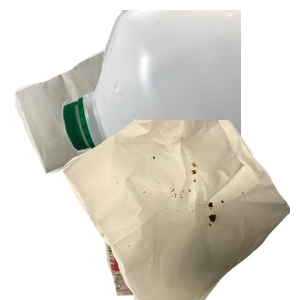glass: (91, 142, 260, 300)
paper: (12, 10, 240, 176)
plastic: (60, 10, 300, 190)
trash: (60, 120, 300, 300)
